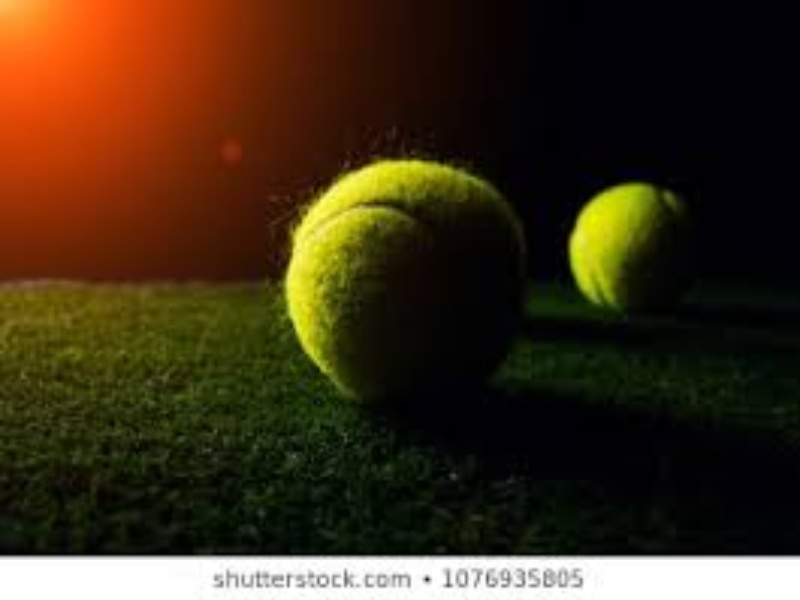tennis ball: (277, 142, 542, 413), (557, 174, 707, 322)
